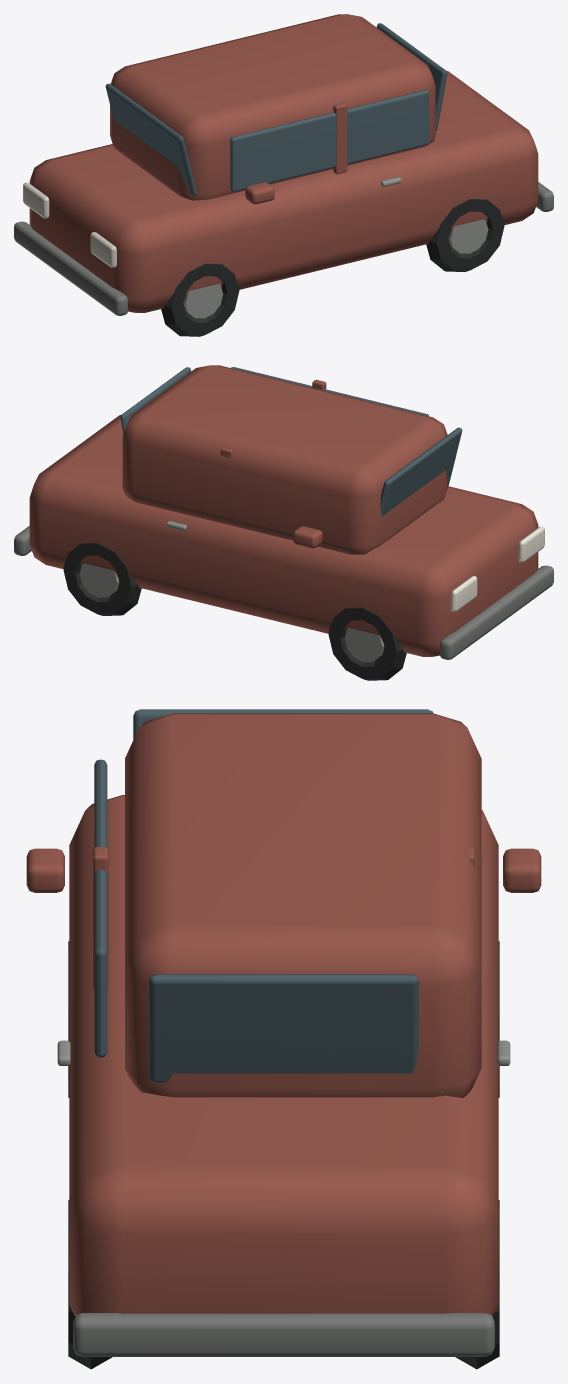
File: kilmore_hatchback_a.glb
3 renders of one model, top to bottom at view 1: azimuth 30°, elevation 25°; view 2: azimuth 150°, elevation 25°; view 3: azimuth 270°, elevation 25°, orthographic. The views are drawn at different scales.
Visible parts, largest first — view 1: SM_Kilmore_ParkedHatchback_A_CombinedMesh; view 2: SM_Kilmore_ParkedHatchback_A_CombinedMesh; view 3: SM_Kilmore_ParkedHatchback_A_CombinedMesh.
Boxes of the visible parts, x1=… form: SM_Kilmore_ParkedHatchback_A_CombinedMesh: x1=14, y1=14, x2=553, y2=336; SM_Kilmore_ParkedHatchback_A_CombinedMesh: x1=14, y1=365, x2=553, y2=680; SM_Kilmore_ParkedHatchback_A_CombinedMesh: x1=26, y1=709, x2=541, y2=1369.
Size of the model in its own units: 4.2 by 1.86 by 2.14.
